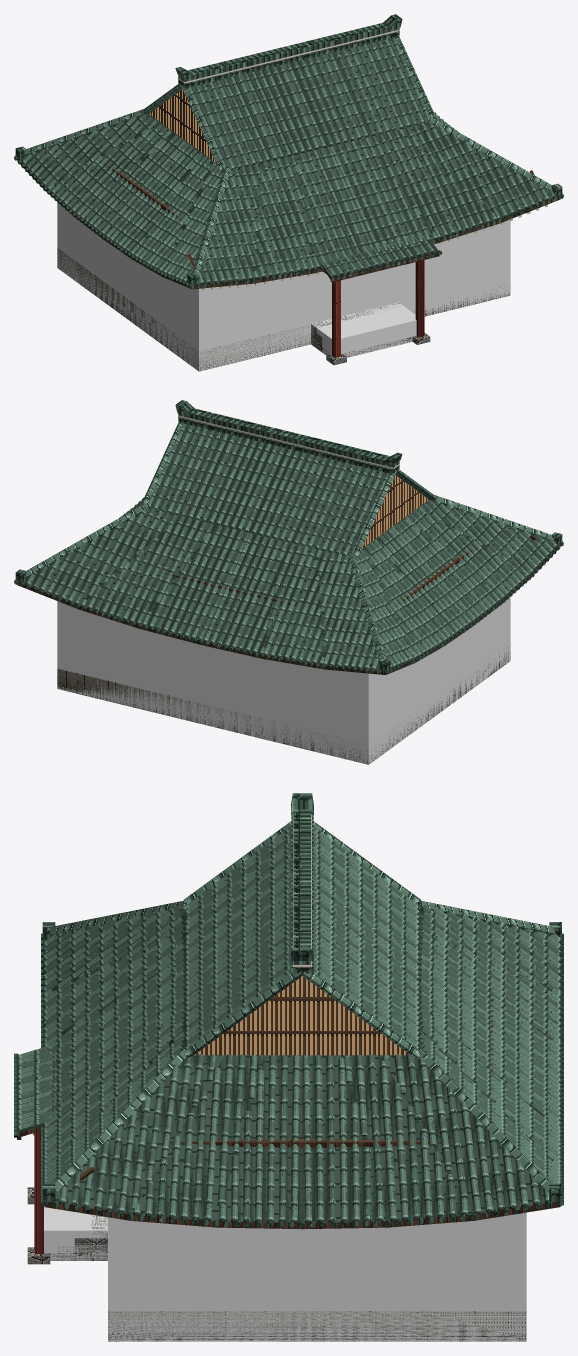
File: JP_Temple_Hall_A.glb
3 views of the same model, one above another, from view 1: azimuth 30°, elevation 25°; view 2: azimuth 150°, elevation 25°; view 3: azimuth 270°, elevation 25° (orthographic). The views are drawn at different scales.
Parts seen in each view (by area): view 1: JP_Temple_Hall_A, COL_JP_Temple_Hall_A, COL_JP_Temple_Hall_A_Steps; view 2: JP_Temple_Hall_A, COL_JP_Temple_Hall_A; view 3: JP_Temple_Hall_A, COL_JP_Temple_Hall_A, COL_JP_Temple_Hall_A_Steps.
Boxes of the visible parts, x1,y1,x2,y2 form: JP_Temple_Hall_A: [14, 14, 563, 370]; COL_JP_Temple_Hall_A: [57, 202, 510, 371]; COL_JP_Temple_Hall_A_Steps: [311, 302, 416, 357]; JP_Temple_Hall_A: [14, 400, 563, 764]; COL_JP_Temple_Hall_A: [57, 597, 510, 764]; JP_Temple_Hall_A: [14, 793, 563, 1341]; COL_JP_Temple_Hall_A: [108, 1212, 526, 1341]; COL_JP_Temple_Hall_A_Steps: [44, 1206, 107, 1260].
Bounding box in the file's own units: 17 × 10.54 × 14.72.
17 materials, 17 textured.
